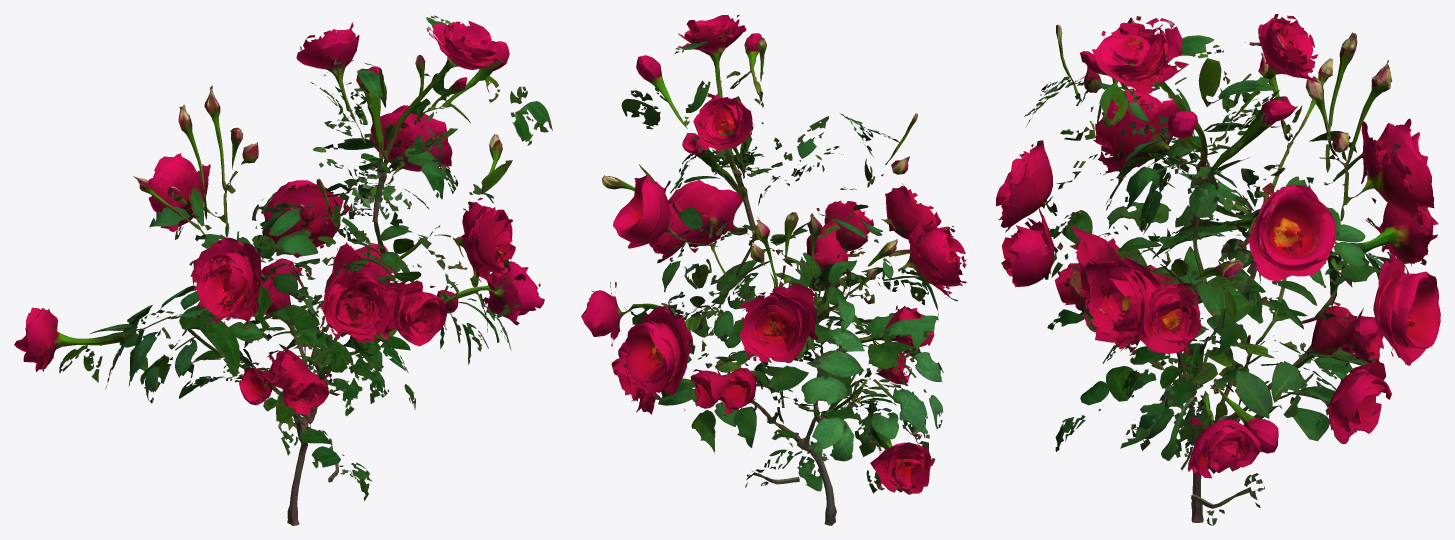
Rendered from raw_meshy_model.glb.
3 renders of one model, left to right at view 1: azimuth 30°, elevation 25°; view 2: azimuth 150°, elevation 25°; view 3: azimuth 270°, elevation 25°, orthographic. The views are drawn at different scales.
Bounding box in the file's own units: 1.81 × 1.89 × 1.32.
1 material, 1 textured.
